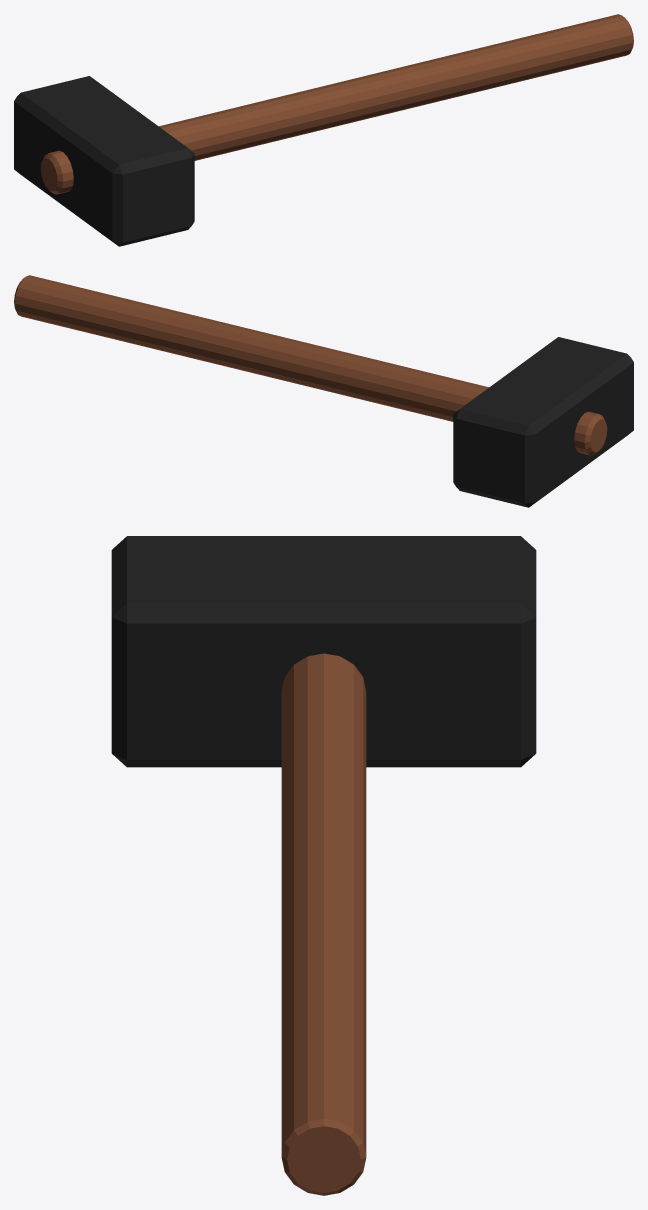
File: Sledgehammer.glb
3 views of the same model, one above another, from view 1: azimuth 30°, elevation 25°; view 2: azimuth 150°, elevation 25°; view 3: azimuth 270°, elevation 25° (orthographic). The views are drawn at different scales.
Parts seen in each view (by area): view 1: Sledgehammer; view 2: Sledgehammer; view 3: Sledgehammer.
Boxes of the visible parts, <box> form: Sledgehammer: <box>14,14,633,246</box>; Sledgehammer: <box>14,275,633,507</box>; Sledgehammer: <box>111,536,536,1195</box>.
Size of the model in its own units: 4.54 by 0.6187 by 1.45.
1 material, 1 textured.
